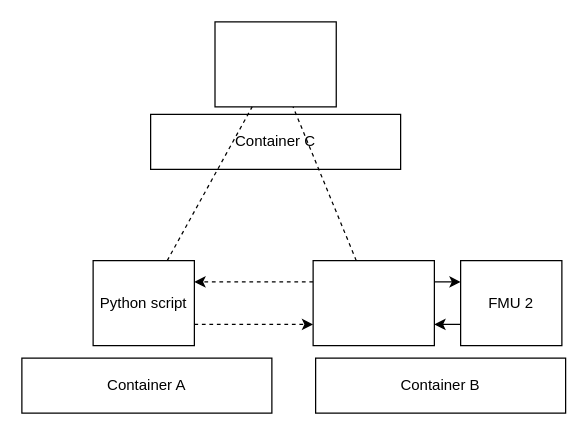
Some shapes in this 588 by 435 pixel diagram are drawn without their labels. Each missing label, with the box of its shape:
RabbitMQ Server: (214, 21, 336, 107)
RabbitMQFMU 1: (312, 259, 434, 346)
